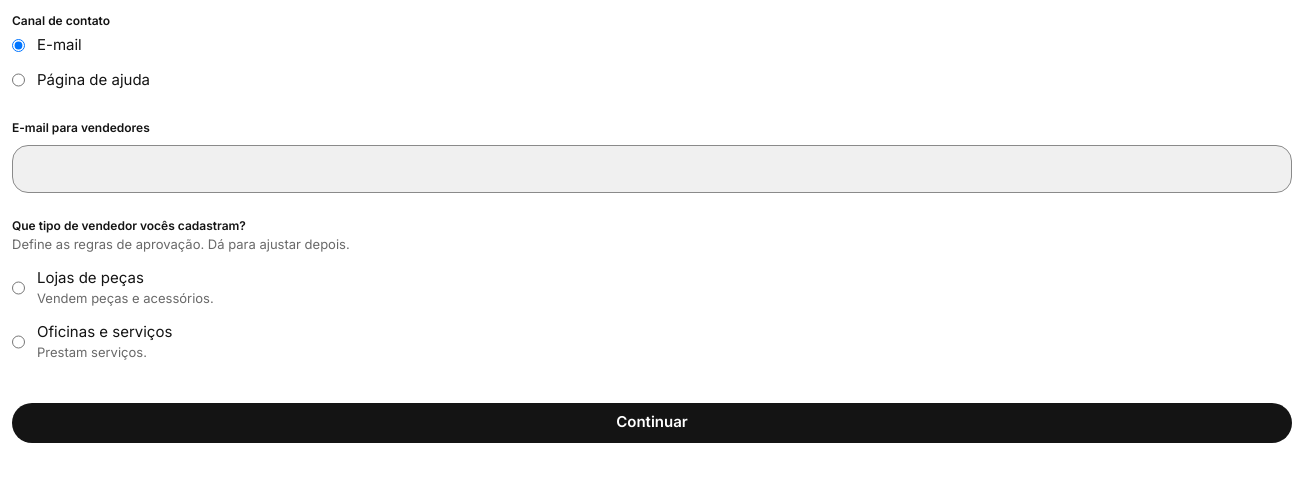
Test case: OnboardingForm (S4, AC 4) › the contact choice switches the value field; the categories are a radio list
Expected: the element "Canal de contato" is shown, [12,13,150,91]
Expected: the radio button labelled "E-mail" is checked, [12,34,25,56]
Click the radio button labelled "Página de ajuda" at (18, 80), box [12,68,25,91]
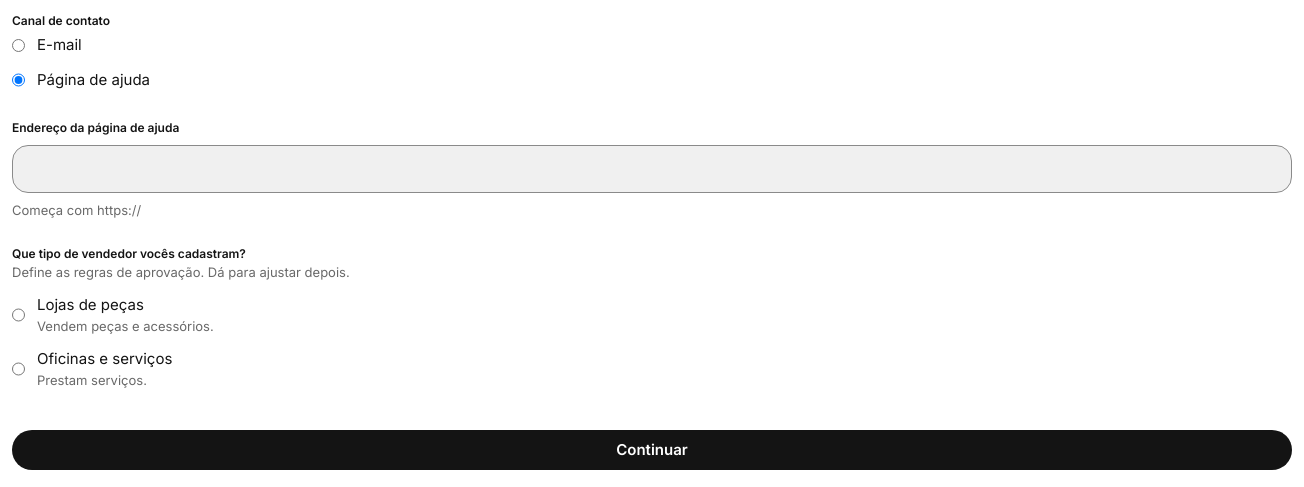
Result: the label labelled "E-mail para vendedores" is gone
